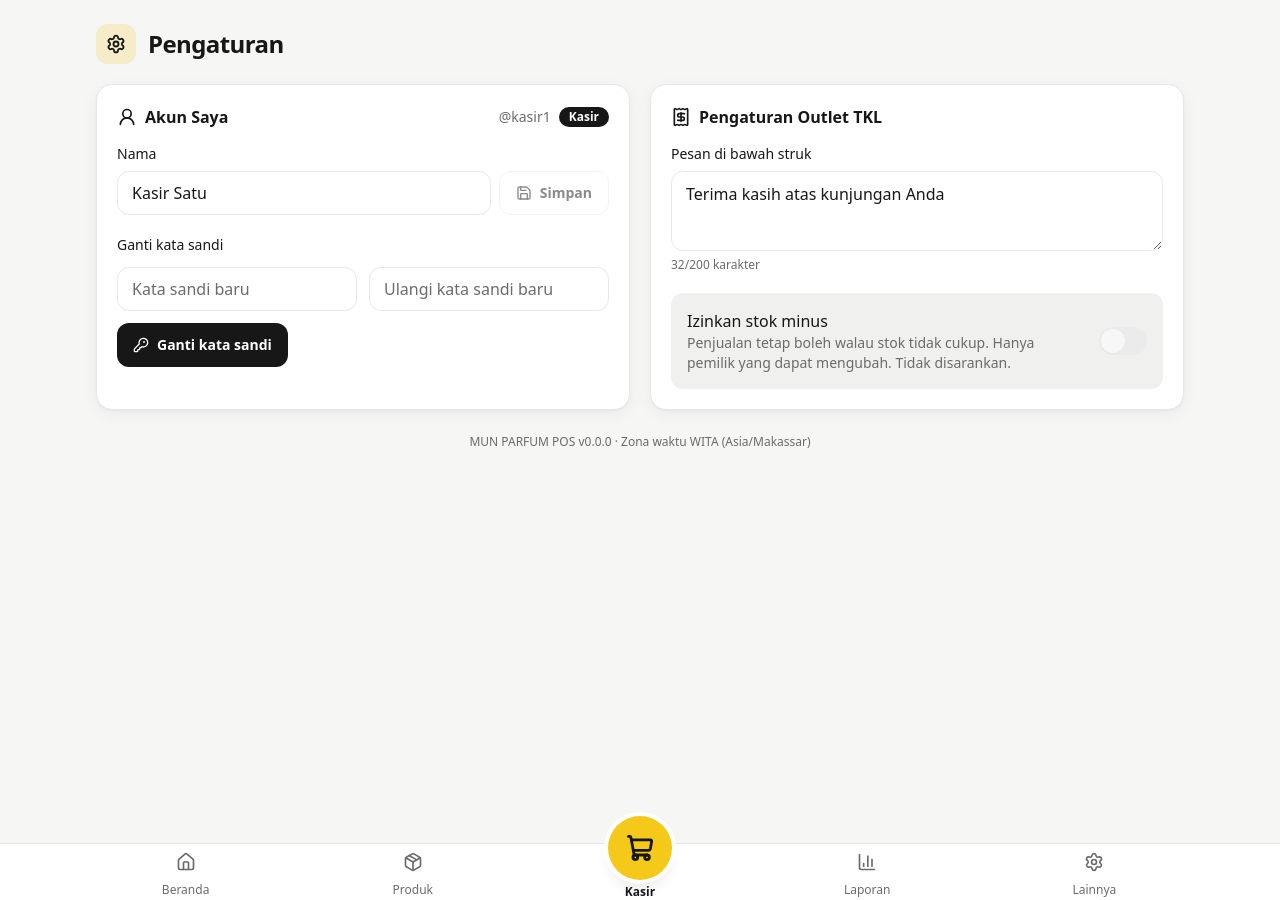
Halaman Pengaturan › akun saya: ubah nama dan kata sandi dengan validasi
The width and height of the screenshot is (1280, 900).
Replace the text in the field labelled "Nama" with "Kasir Satu Baru" at (304, 193), box x1=117 y1=171 x2=491 y2=215
Click the button "Simpan" at (554, 193), box x1=499 y1=171 x2=609 y2=215
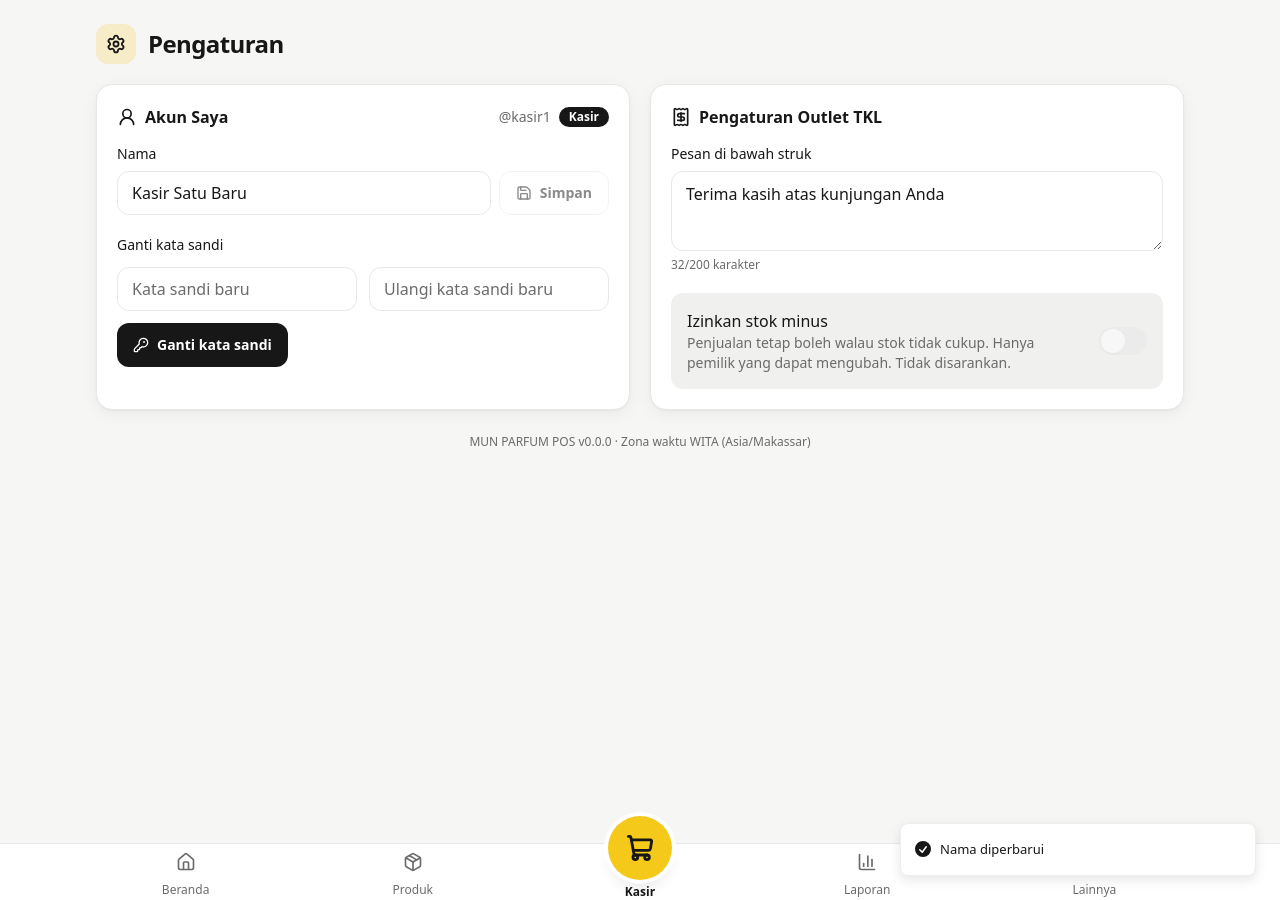
Type "sandiBaru99" into the password field labelled "Kata sandi baru" at (237, 289), box x1=117 y1=267 x2=357 y2=311
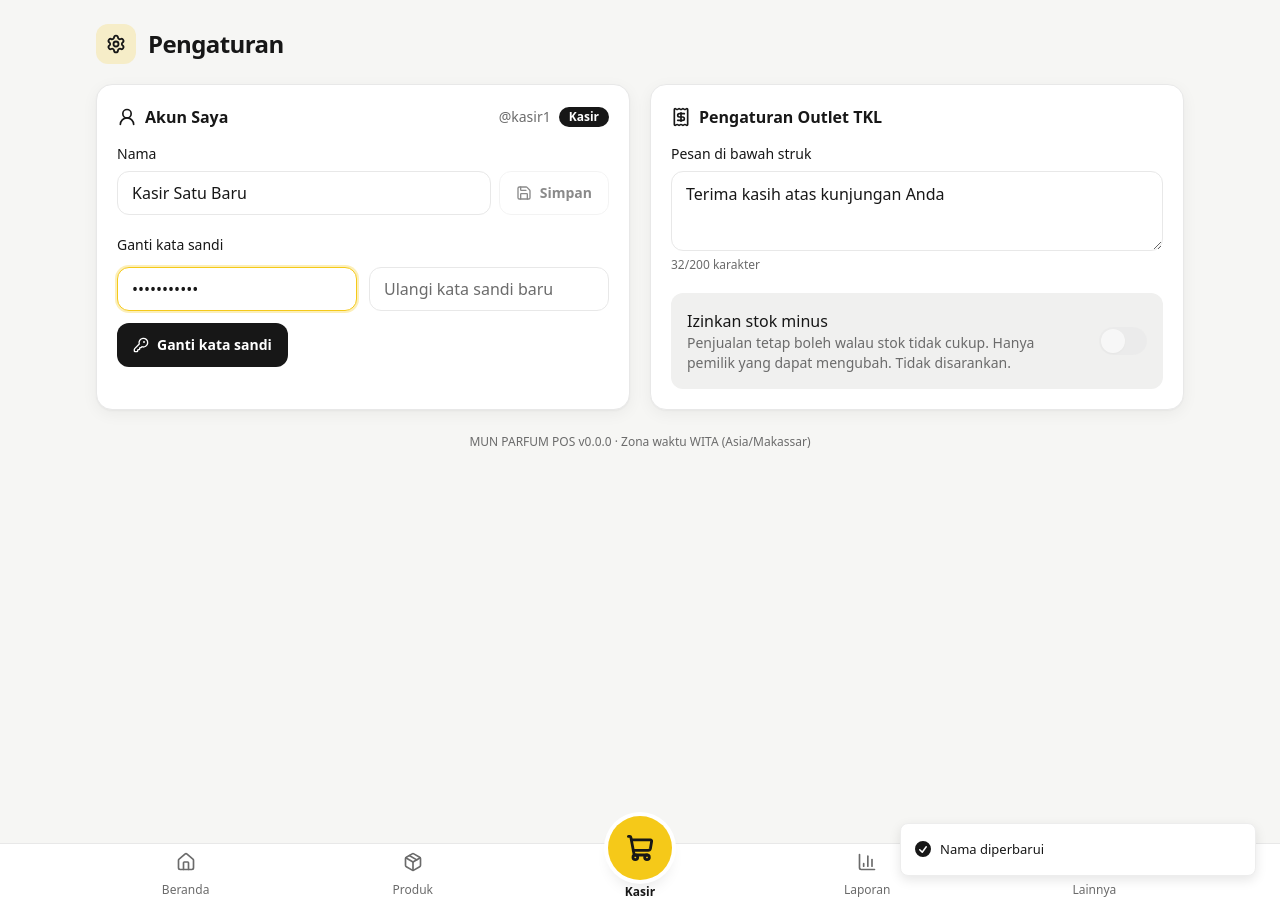
Type "sandiBeda99" into the password field labelled "Ulangi kata sandi baru" at (489, 289), box x1=369 y1=267 x2=609 y2=311
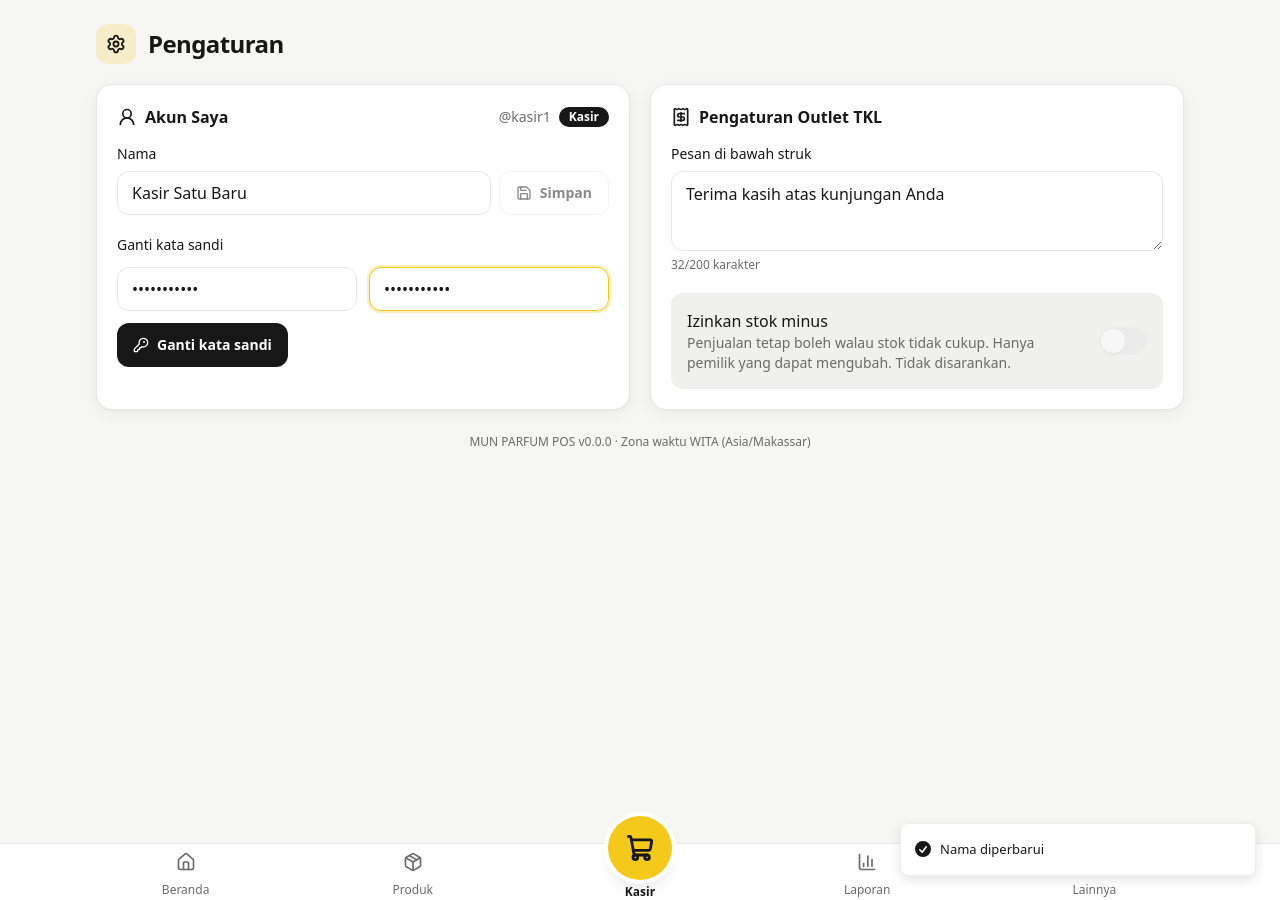
Click the button "Ganti kata sandi" at (202, 345), box x1=117 y1=323 x2=288 y2=367
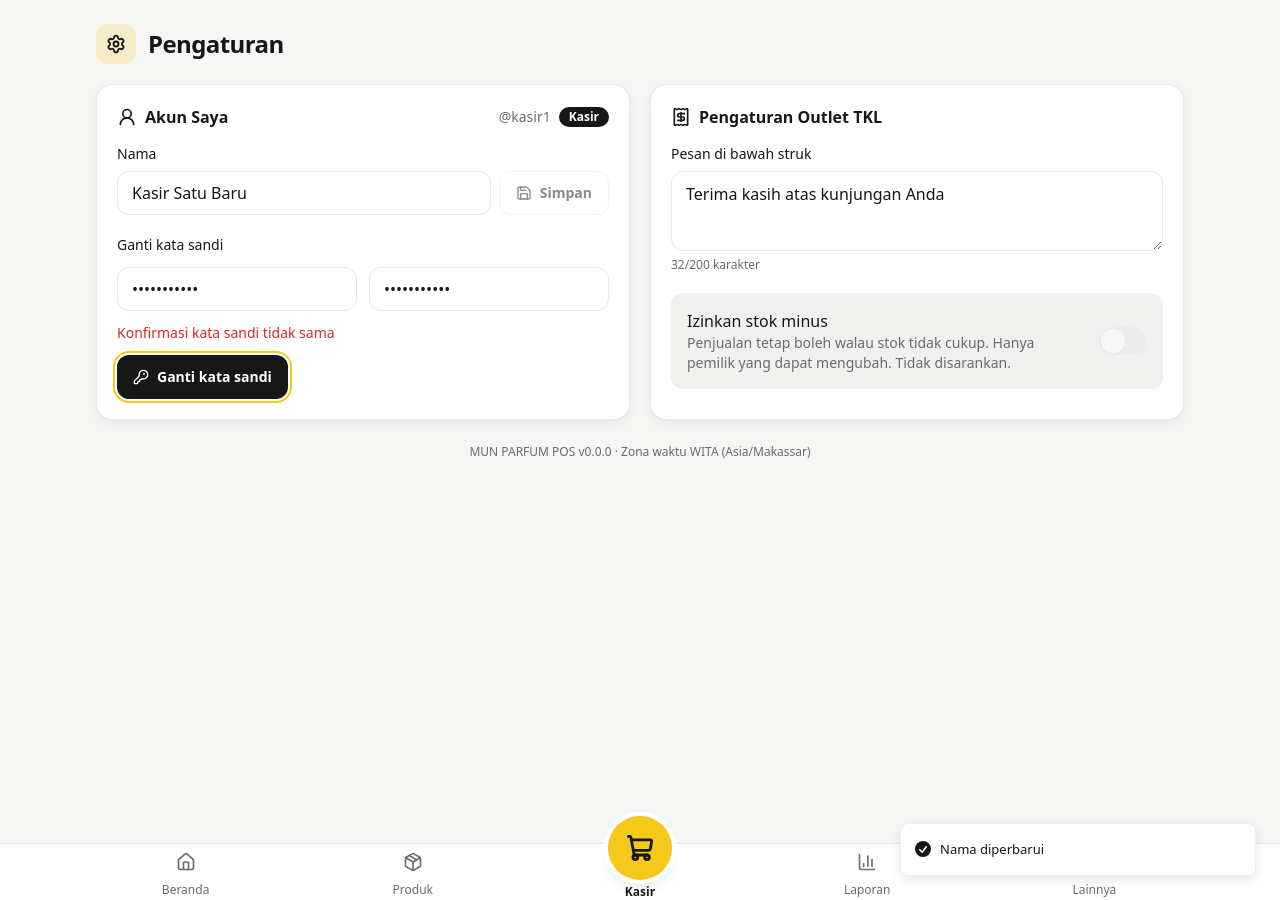
expect the text "Konfirmasi kata sandi tidak sama" is shown: met, box x1=117 y1=323 x2=335 y2=342
Type "sandiBaru99" into the password field named "Ulangi kata sandi baru" at (489, 289), box x1=369 y1=267 x2=609 y2=311
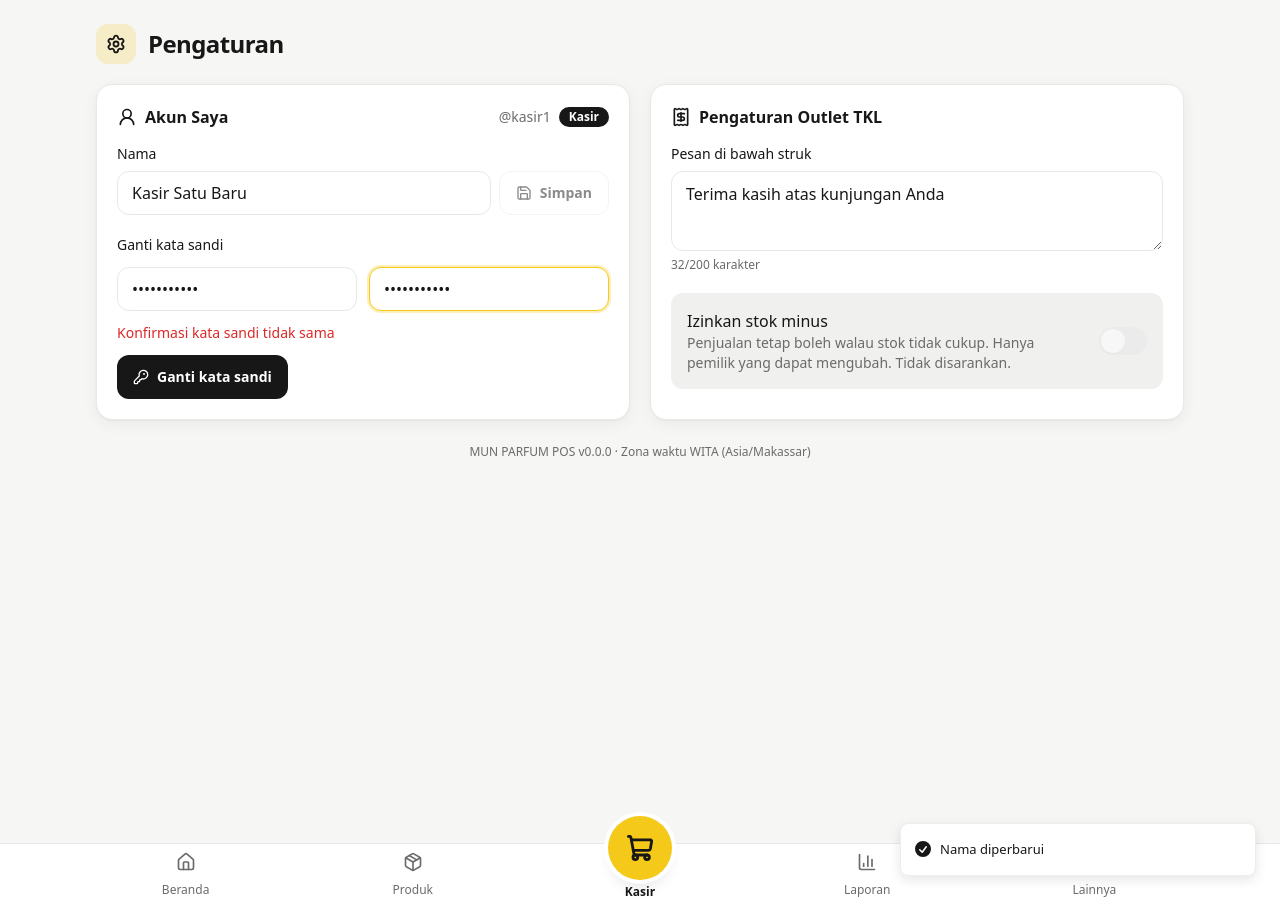
Click the button "Ganti kata sandi" at (202, 377), box x1=117 y1=355 x2=288 y2=399
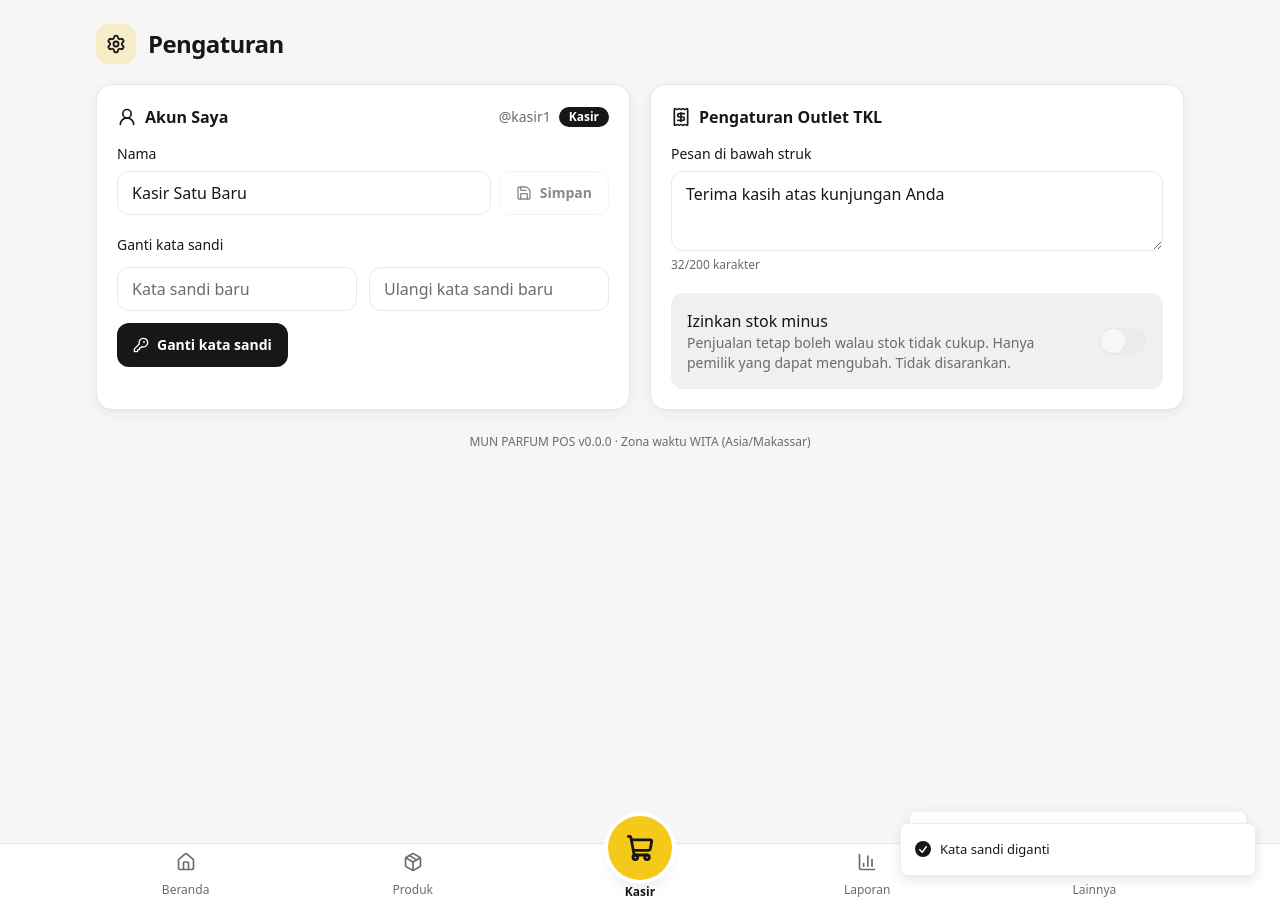
expect the text "Kata sandi diganti" is shown: met, box x1=940 y1=840 x2=1050 y2=859
